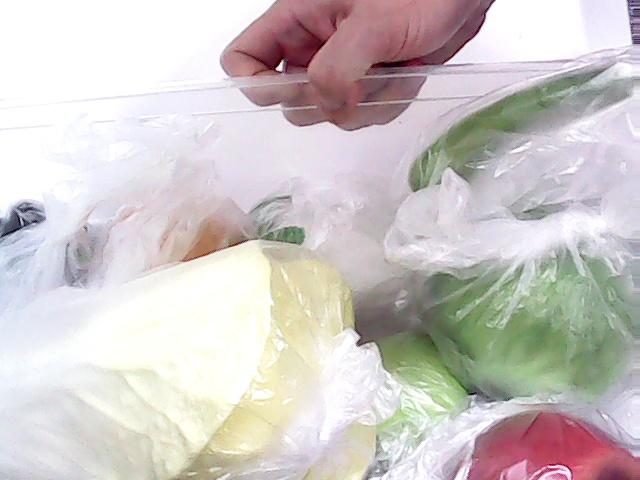apple: (422, 410, 640, 480), (366, 335, 466, 441)
cabbage: (422, 180, 640, 404)
grape: (0, 182, 88, 274)
lemon: (70, 174, 260, 270)
napa cabbage: (6, 219, 372, 480)
pepper: (400, 70, 636, 198)
radish: (248, 198, 416, 326)
